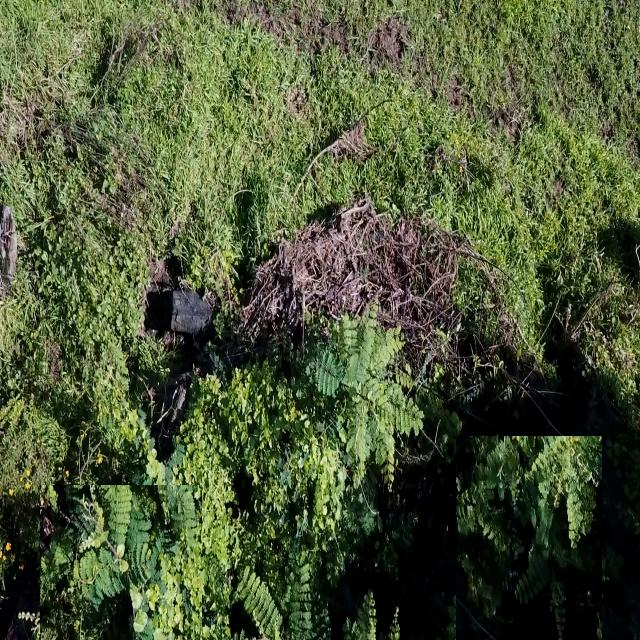Mysore-Thorn-Weed: (456, 436, 602, 640), (41, 485, 202, 640), (302, 296, 427, 492), (225, 547, 404, 640)
